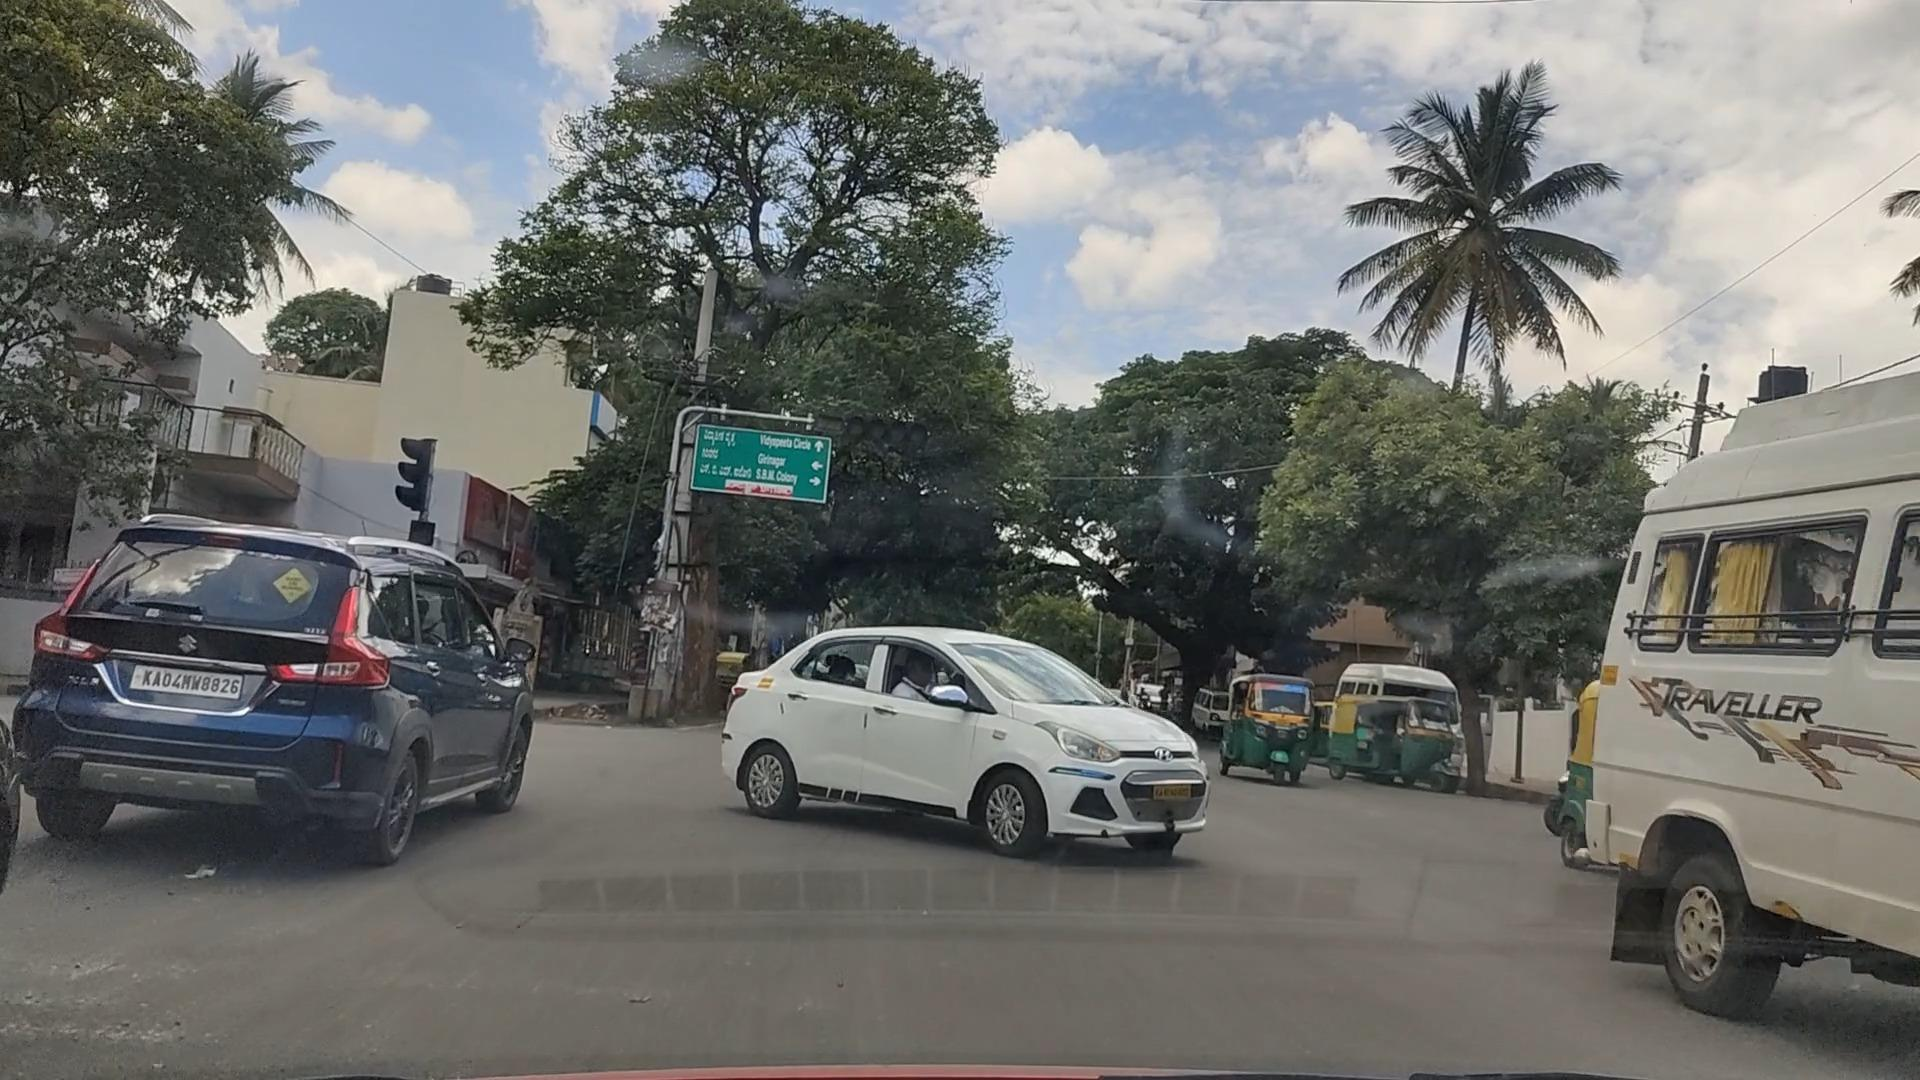LMV: (21, 508, 542, 847), (728, 616, 1211, 877)
